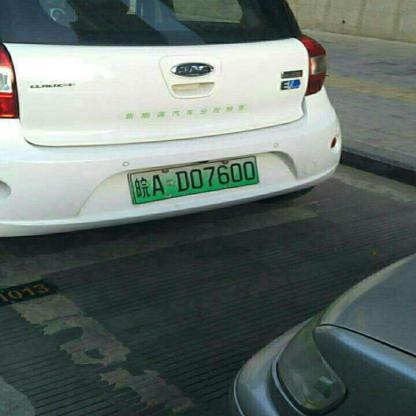lp: (129, 157, 259, 205)
